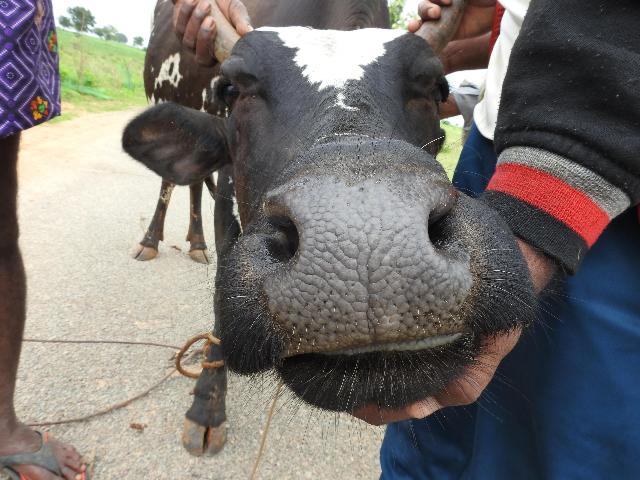Muzzle: (270, 188, 452, 336)
